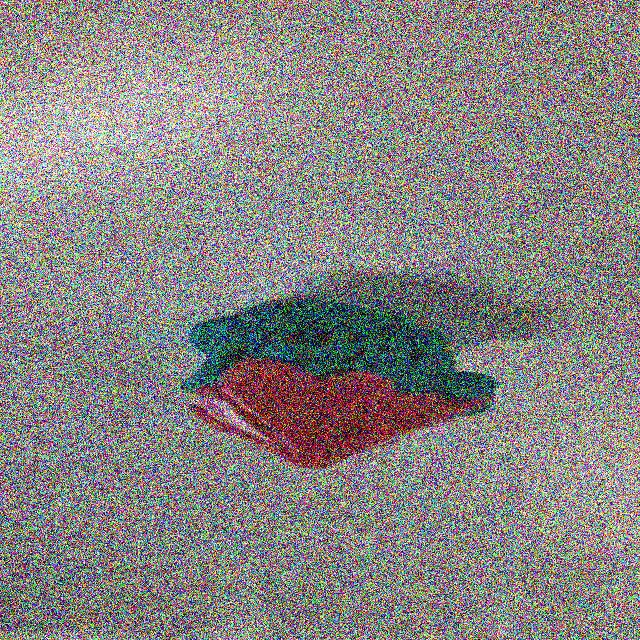House: (157, 288, 507, 480)
